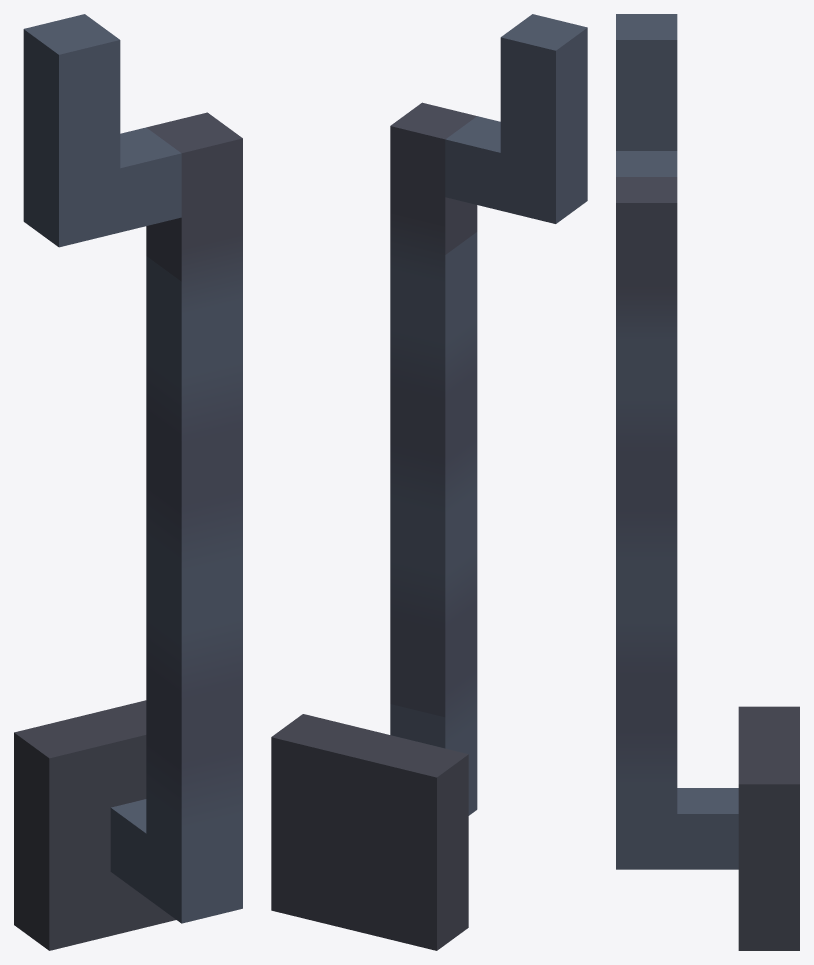
The model's file is Pipes-2.fbx.
3 views of the same model, side by side, from view 1: azimuth 30°, elevation 25°; view 2: azimuth 150°, elevation 25°; view 3: azimuth 270°, elevation 25° (orthographic). The views are drawn at different scales.
Visible parts, largest first — view 1: Pipes_2; view 2: Pipes_2; view 3: Pipes_2.
Boxes of the visible parts, x1,y1,x2,y2 form: Pipes_2: [14, 14, 242, 950]; Pipes_2: [271, 14, 587, 950]; Pipes_2: [616, 14, 799, 950].
Size of the model in its own units: 40 by 150 by 30.
1 material, 1 textured.
